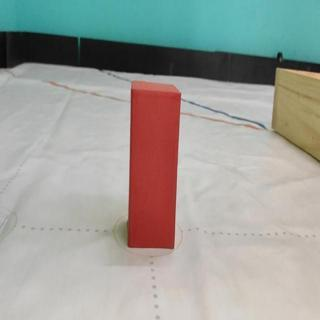redbox: (128, 79, 182, 249)
